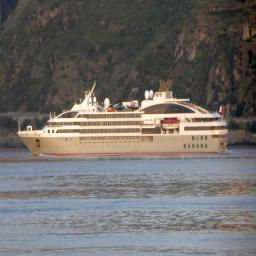cruises: (16, 79, 231, 163)
